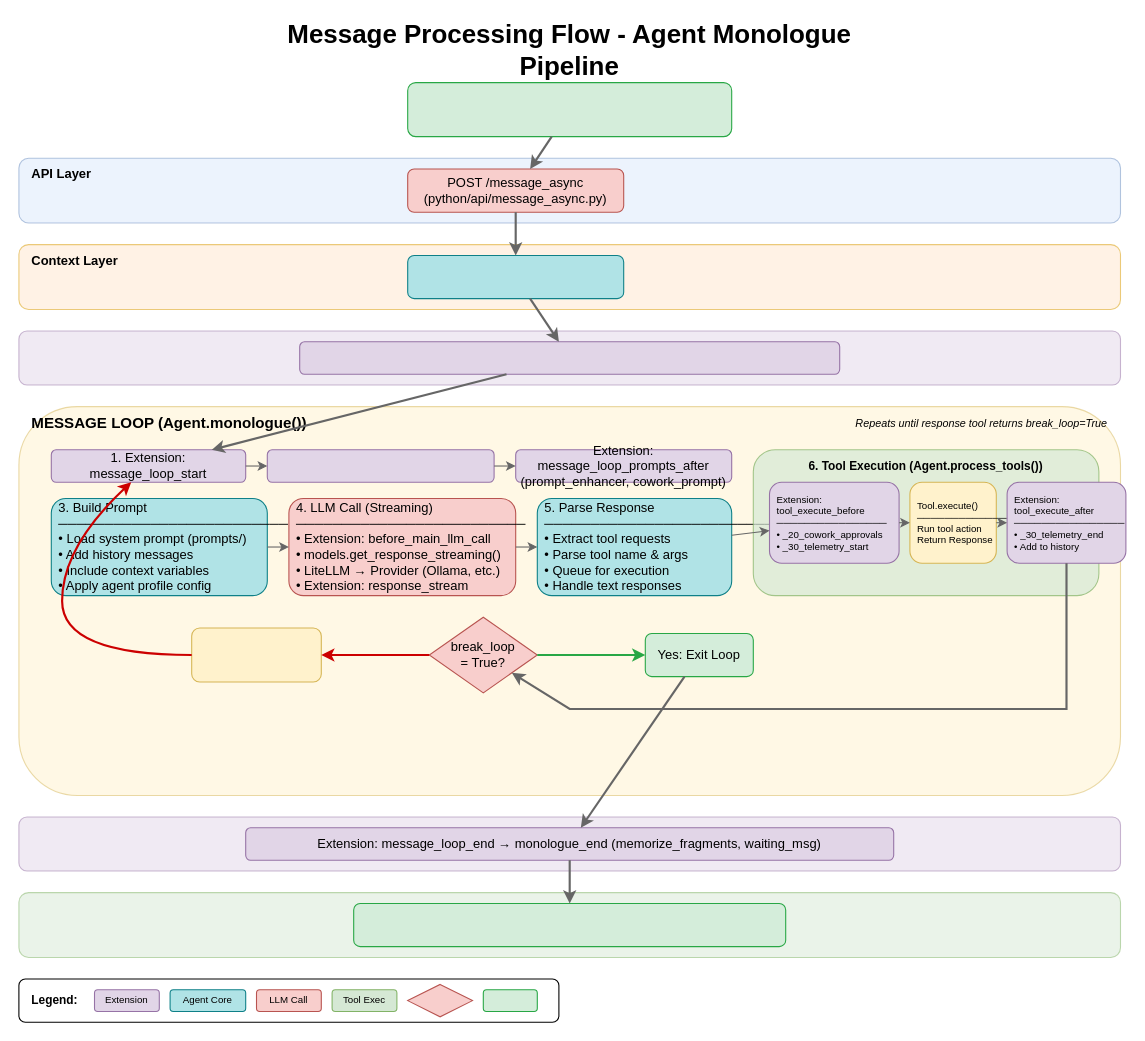
Some shapes in this 1145 by 1041 pixel diagram are drawn without their labels. Here are the shapes that lost their labels. From the top down, the centre of each, then its label:
the point at 569,109: USER MESSAGE INPUT (webui/index.js → sendMessage())
the point at 515,276: AgentContext.communicate() (agent.py)
the point at 569,357: Extension: monologue_start (user_message_ui, memory_init, etc.)
the point at 380,465: 2. Extension: message_loop_prompts_before
the point at 256,654: No: Continue Loop (Back to step 1)
the point at 569,924: RESPONSE TO CLIENT (Rendered in chat history via webui/js/messages.js)
the point at 440,1000: Decision
the point at 509,1000: I/O
